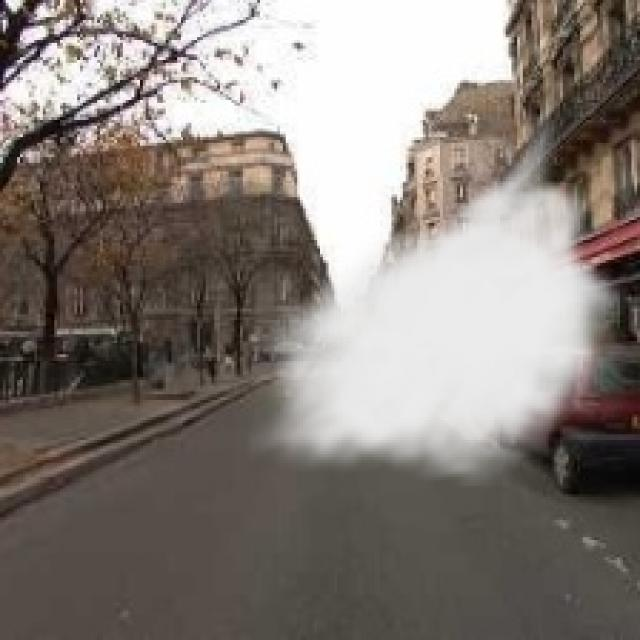smoke: (246, 109, 634, 488)
